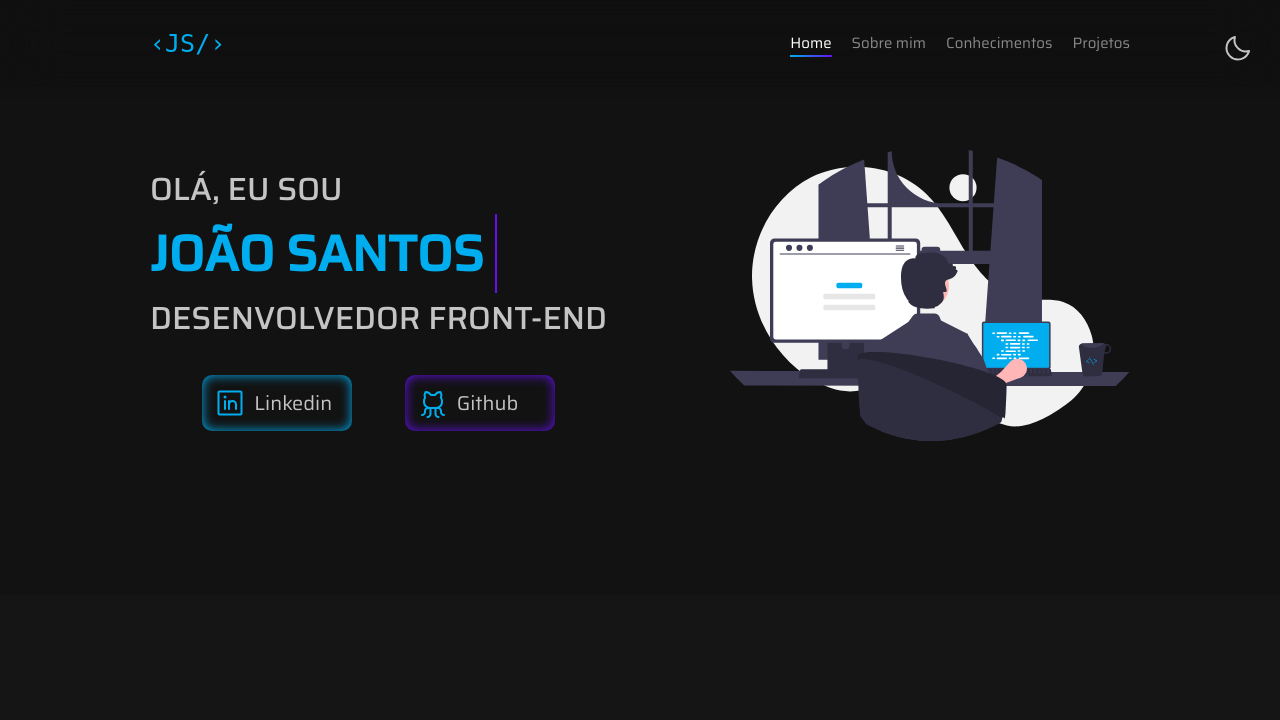
Test case: App component › should be able to change theme and save it to localStorage
This screenshot has width=1280, height=720.
Click the element titled "atualmente modo escuro" at (1238, 50), box [1222,32,1254,68]
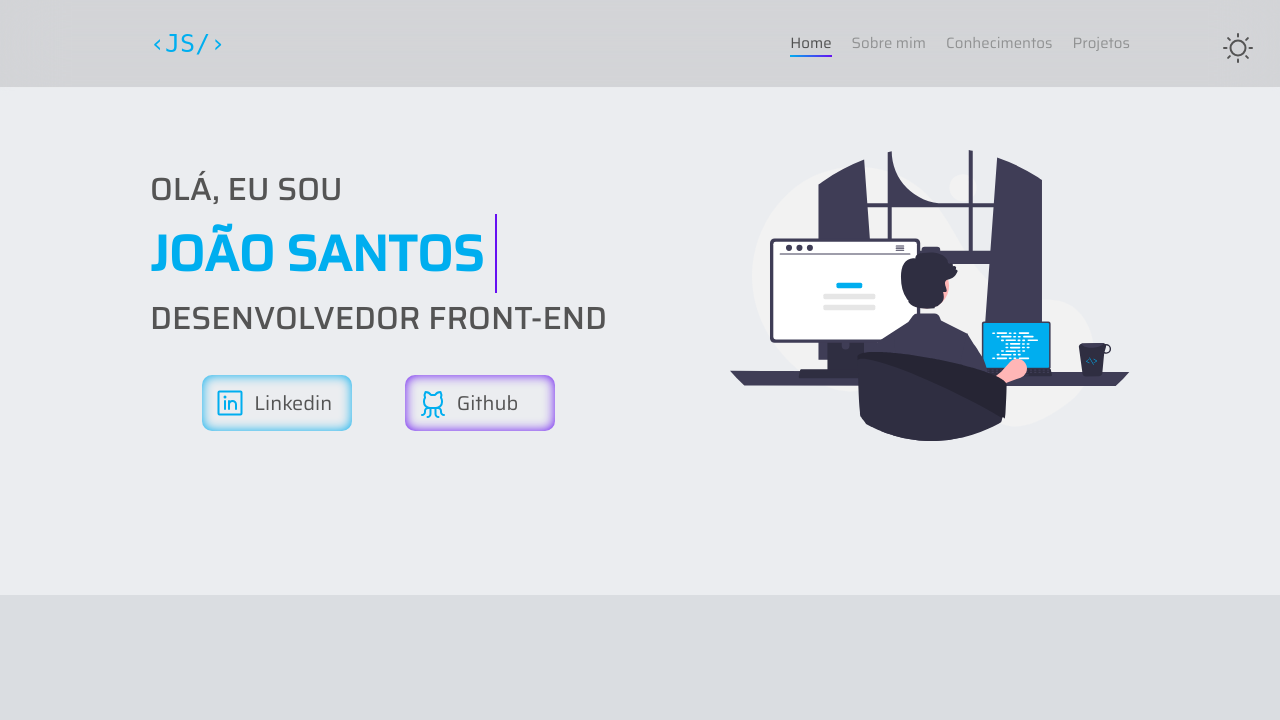
Now the element titled "atualmente modo claro" is shown, box [1222,32,1254,68]
